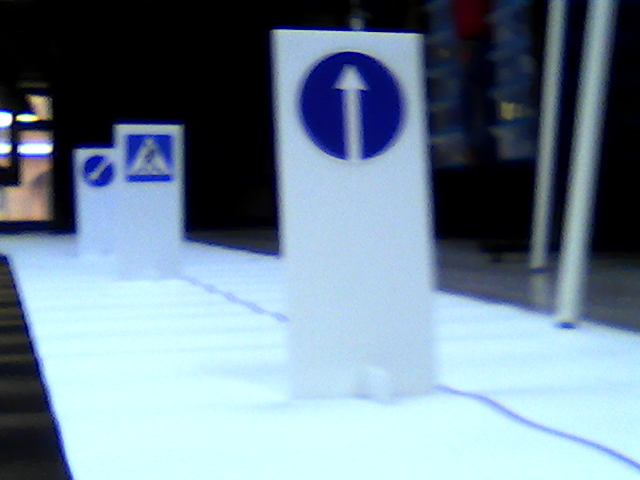forw: (297, 48, 406, 159)
pesh: (124, 133, 174, 184)
prep: (80, 153, 114, 188)
